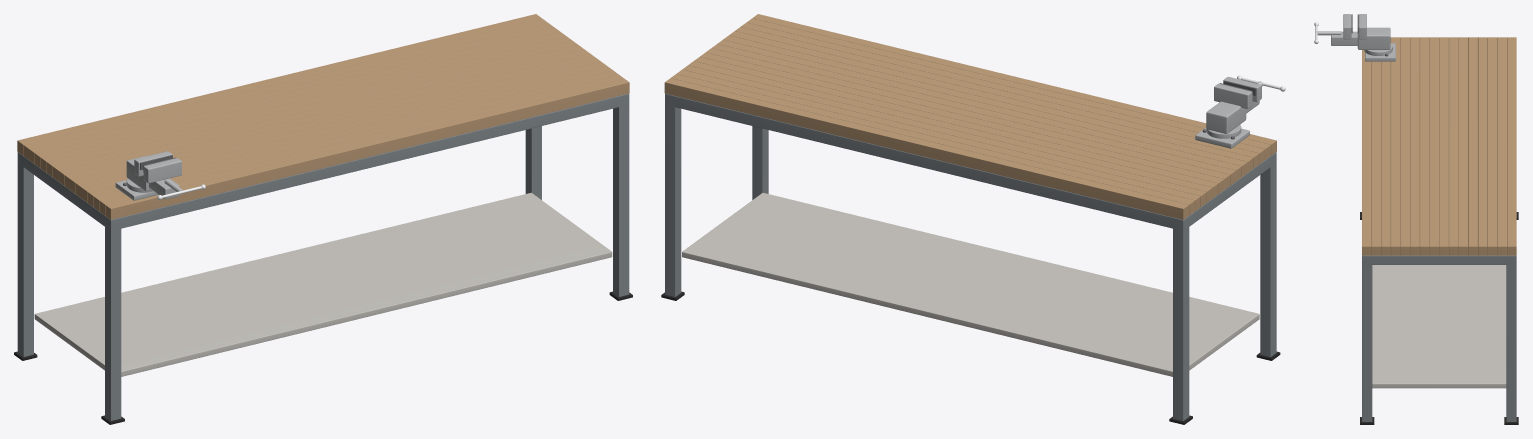
The model's file is bench_long.glb.
3 views of the same model, side by side, from view 1: azimuth 30°, elevation 25°; view 2: azimuth 150°, elevation 25°; view 3: azimuth 270°, elevation 25° (orthographic). The views are drawn at different scales.
Parts seen in each view (by area): view 1: SM_bench_long; view 2: SM_bench_long; view 3: SM_bench_long.
Boxes of the visible parts, x1=… form: SM_bench_long: x1=14, y1=14, x2=632, y2=424; SM_bench_long: x1=661, y1=14, x2=1285, y2=424; SM_bench_long: x1=1314, y1=14, x2=1518, y2=424.
Size of the model in its own units: 2.42 by 1.13 by 0.991.
